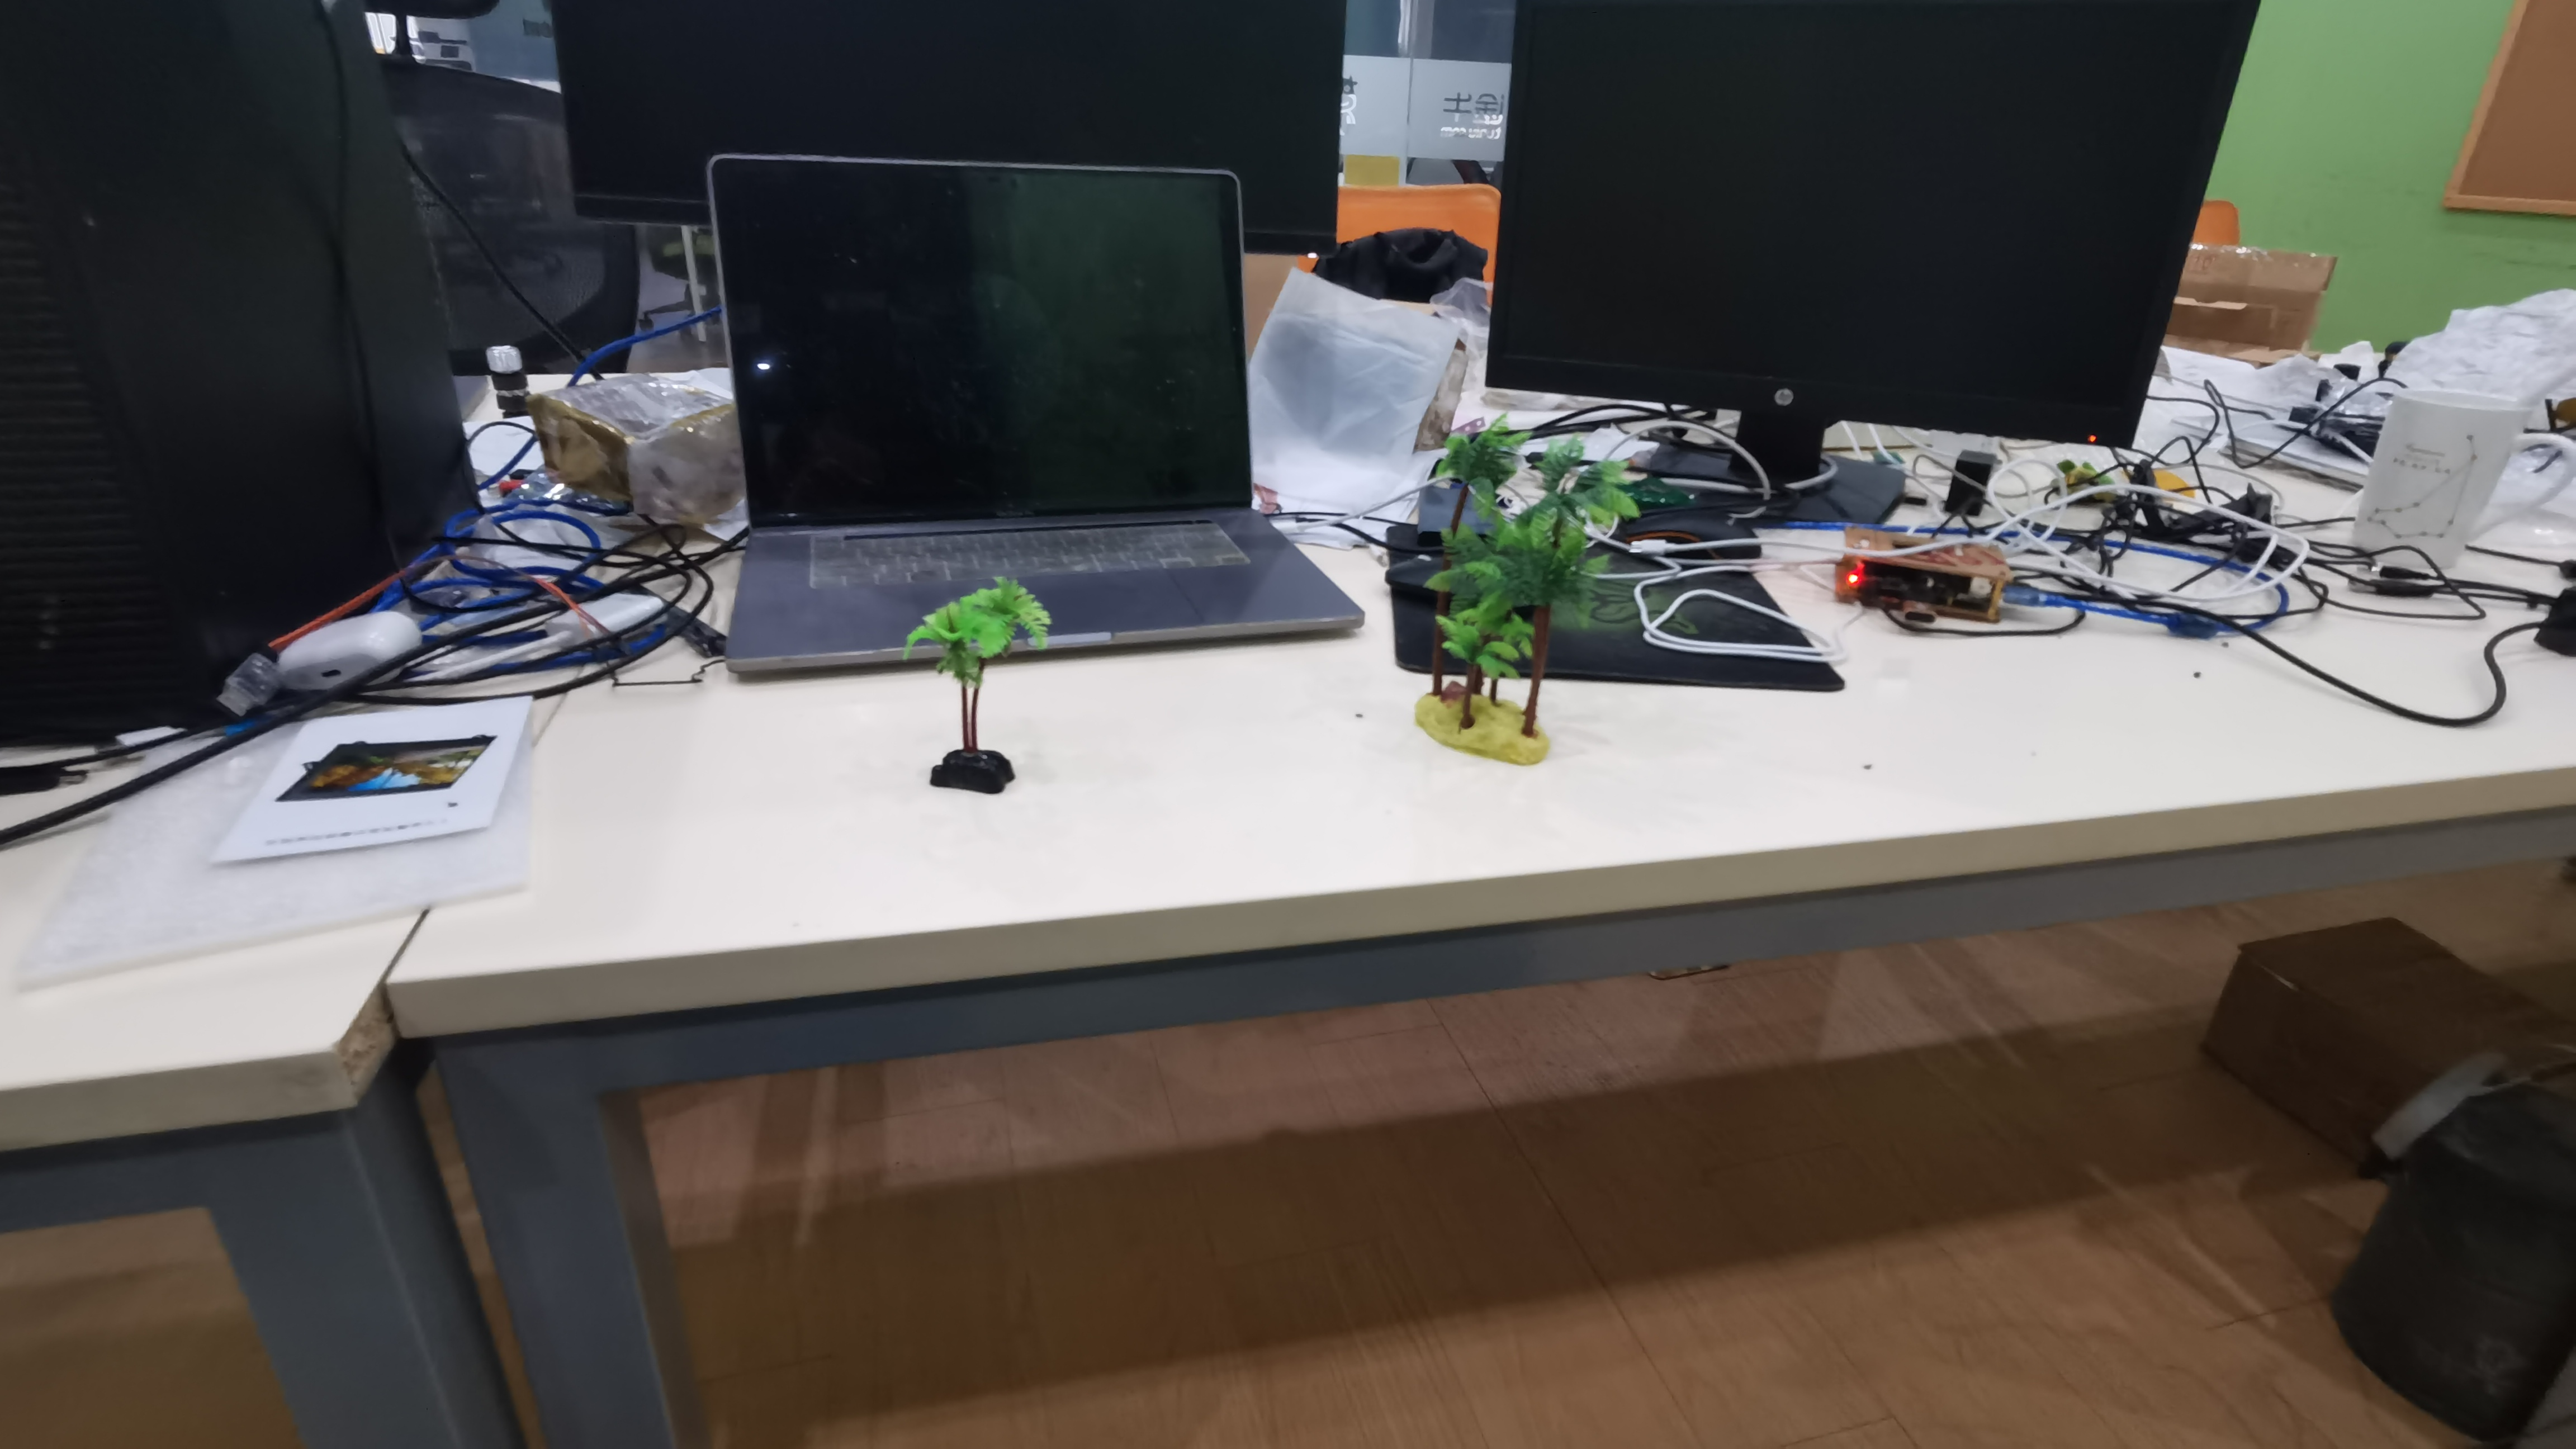corn: (1415, 416, 1605, 773), (892, 586, 1040, 796)
